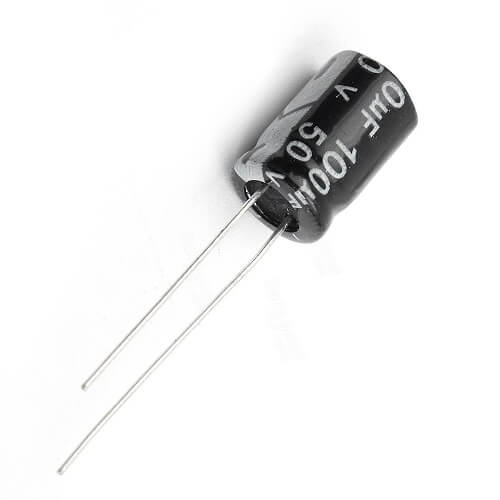capacitor: (196, 11, 463, 358)
